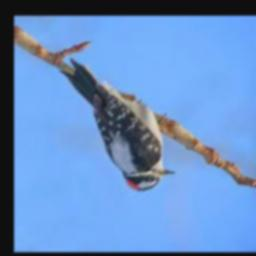Woodpecker: (60, 59, 176, 191)
